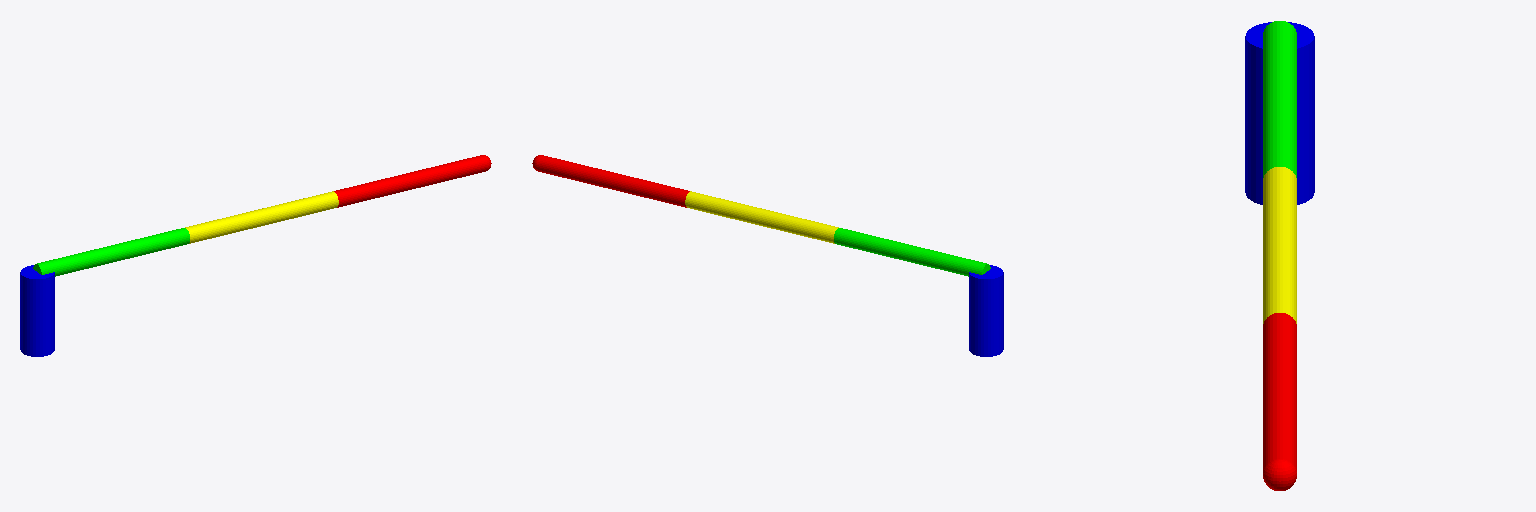
URDF robot description (planar_arm):
<?xml version="1.0"?>
<robot name="planar_arm">
  <material name="blue"><color rgba="0 0 1 1"/></material>
  <material name="green"><color rgba="0 1 0 1"/></material>
  <material name="yellow"><color rgba="1 1 0 1"/></material>
  <material name="red"><color rgba="1 0 0 1"/></material>

  <link name="base_link">
    <visual>
      <origin xyz="0 0 0.25" rpy="0 0 0"/>
      <geometry><cylinder radius="0.1" length="0.5"/></geometry>
      <material name="blue"/>
    </visual>
    <inertial>
      <origin xyz="0 0 0.25" rpy="0 0 0"/>
      <mass value="1.0"/>
      <inertia ixx="0.01" ixy="0.0" ixz="0.0" iyy="0.01" iyz="0.0" izz="0.01"/>
    </inertial>
  </link>

  <joint name="joint1" type="revolute">
    <parent link="base_link"/>
    <child link="link1"/>
    <origin xyz="0 0 0.5" rpy="0 0 0"/>
    <axis xyz="0 0 1"/>
    <limit effort="100.0" lower="-3.14" upper="3.14" velocity="1.0"/>
  </joint>

  <link name="link1">
    <visual>
      <origin xyz="0.5 0 0" rpy="0 1.5708 0"/>
      <geometry><cylinder radius="0.05" length="1.0"/></geometry>
      <material name="green"/>
    </visual>
    <inertial>
      <origin xyz="0 0 0" rpy="0 0 0"/>
      <mass value="1.0"/>
      <inertia ixx="0.01" ixy="0.0" ixz="0.0" iyy="0.01" iyz="0.0" izz="0.01"/>
    </inertial>
  </link>

  <joint name="joint2" type="revolute">
    <parent link="link1"/>
    <child link="link2"/>
    <origin xyz="1.0 0 0" rpy="0 0 0"/>
    <axis xyz="0 0 1"/>
    <limit effort="100.0" lower="-3.14" upper="3.14" velocity="1.0"/>
  </joint>

  <link name="link2">
    <visual>
      <origin xyz="0.5 0 0" rpy="0 1.5708 0"/>
      <geometry><cylinder radius="0.05" length="1.0"/></geometry>
      <material name="yellow"/>
    </visual>
    <inertial>
      <origin xyz="0 0 0" rpy="0 0 0"/>
      <mass value="1.0"/>
      <inertia ixx="0.01" ixy="0.0" ixz="0.0" iyy="0.01" iyz="0.0" izz="0.01"/>
    </inertial>
  </link>

  <joint name="joint3" type="revolute">
    <parent link="link2"/>
    <child link="link3"/>
    <origin xyz="1.0 0 0" rpy="0 0 0"/>
    <axis xyz="0 0 1"/>
    <limit effort="100.0" lower="-3.14" upper="3.14" velocity="1.0"/>
  </joint>

  <link name="link3">
    <visual>
      <origin xyz="0.5 0 0" rpy="0 1.5708 0"/>
      <geometry><cylinder radius="0.05" length="1.0"/></geometry>
      <material name="red"/>
    </visual>
    <inertial>
      <origin xyz="0 0 0" rpy="0 0 0"/>
      <mass value="1.0"/>
      <inertia ixx="0.01" ixy="0.0" ixz="0.0" iyy="0.01" iyz="0.0" izz="0.01"/>
    </inertial>
  </link>

  <joint name="joint4" type="fixed">
    <parent link="link3"/>
    <child link="end_effector"/>
    <origin xyz="1.0 0 0" rpy="0 0 0"/>
  </joint>

  <link name="end_effector">
    <visual>
      <origin xyz="0 0 0" rpy="0 0 0"/>
      <geometry><sphere radius="0.05"/></geometry>
      <material name="red"/>
    </visual>
    <inertial>
      <origin xyz="0 0 0" rpy="0 0 0"/>
      <mass value="0.2"/>
      <inertia ixx="0.001" ixy="0.0" ixz="0.0" iyy="0.001" iyz="0.0" izz="0.001"/>
    </inertial>
  </link>
</robot>

--- Render facts (derived) ---
The picture shows the robot from 3 angles, left to right: view 1: azimuth 30°, elevation 25°; view 2: azimuth 150°, elevation 25°; view 3: azimuth 270°, elevation 25°; orthographic projection.
Robot: planar_arm — 5 links, 4 joints (3 revolute, 1 fixed); root link base_link; default pose: all joints at 0.
Visible links, largest first — view 1: base_link, link2, link3, link1; view 2: base_link, link2, link3, link1; view 3: base_link, link1, link2, link3, end_effector.
Boxes of the visible links, bbox=[...] form: base_link: bbox=[20, 265, 54, 356]; link2: bbox=[185, 191, 338, 243]; link3: bbox=[334, 155, 486, 207]; link1: bbox=[33, 228, 189, 276]; base_link: bbox=[969, 265, 1003, 356]; link2: bbox=[685, 191, 838, 243]; link3: bbox=[537, 155, 689, 207]; link1: bbox=[834, 228, 990, 276]; base_link: bbox=[1245, 22, 1314, 204]; link1: bbox=[1263, 21, 1296, 177]; link2: bbox=[1263, 167, 1296, 323]; link3: bbox=[1263, 313, 1296, 469]; end_effector: bbox=[1263, 459, 1296, 490].
Bounding box of the posed robot: 3.15 × 0.2 × 0.55 m (x, y, z).
Geometry: primitives only (box / cylinder / sphere), no mesh files.